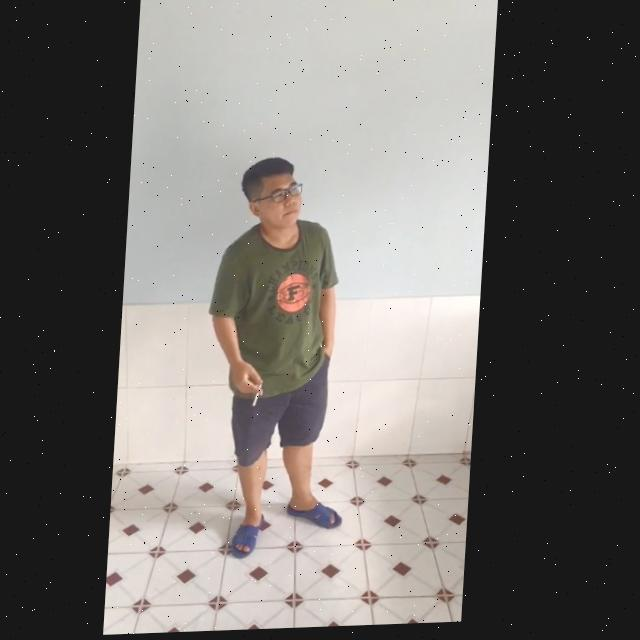cigarette: (257, 384, 267, 408)
